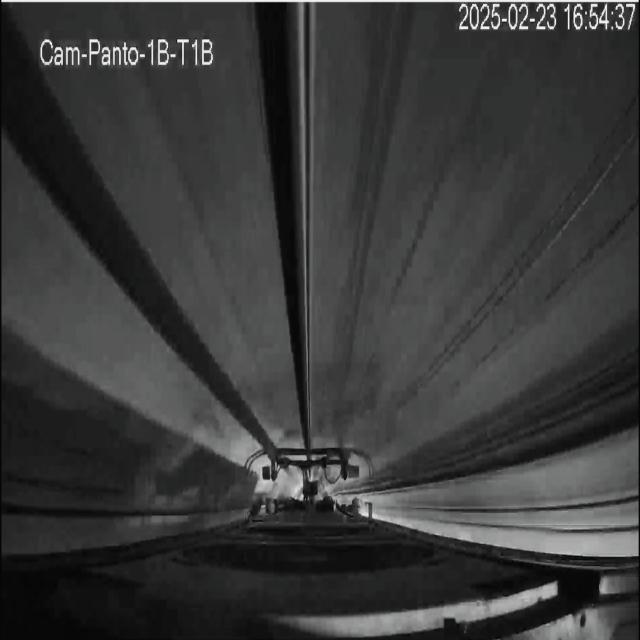Camera Stamp: (32, 26, 220, 71)
Date Stamp: (459, 3, 636, 33)
No - Spark: (246, 443, 372, 515)
